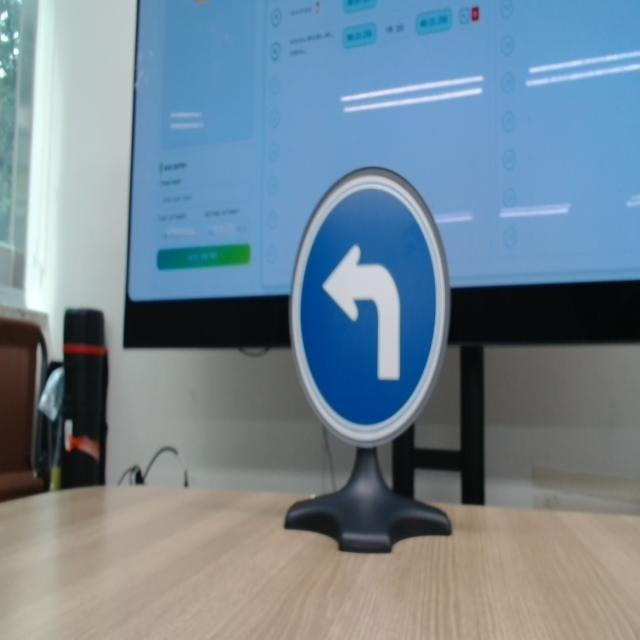left_direction: (284, 165, 452, 453)
